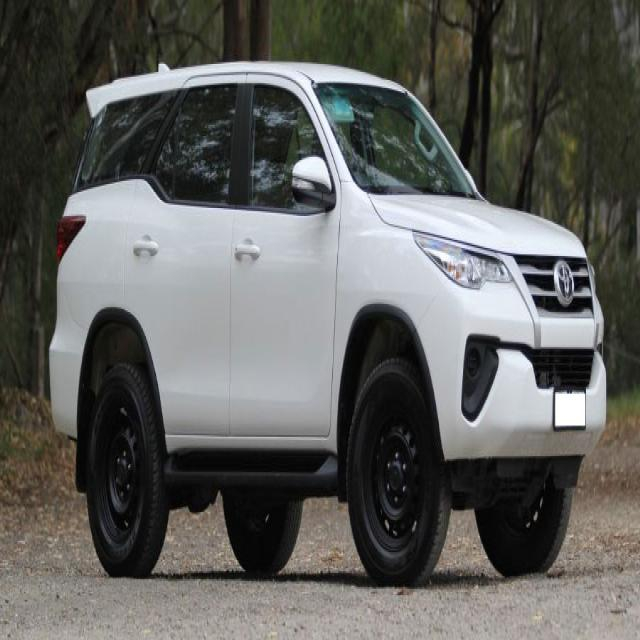light_vehicle: (47, 60, 607, 590)
